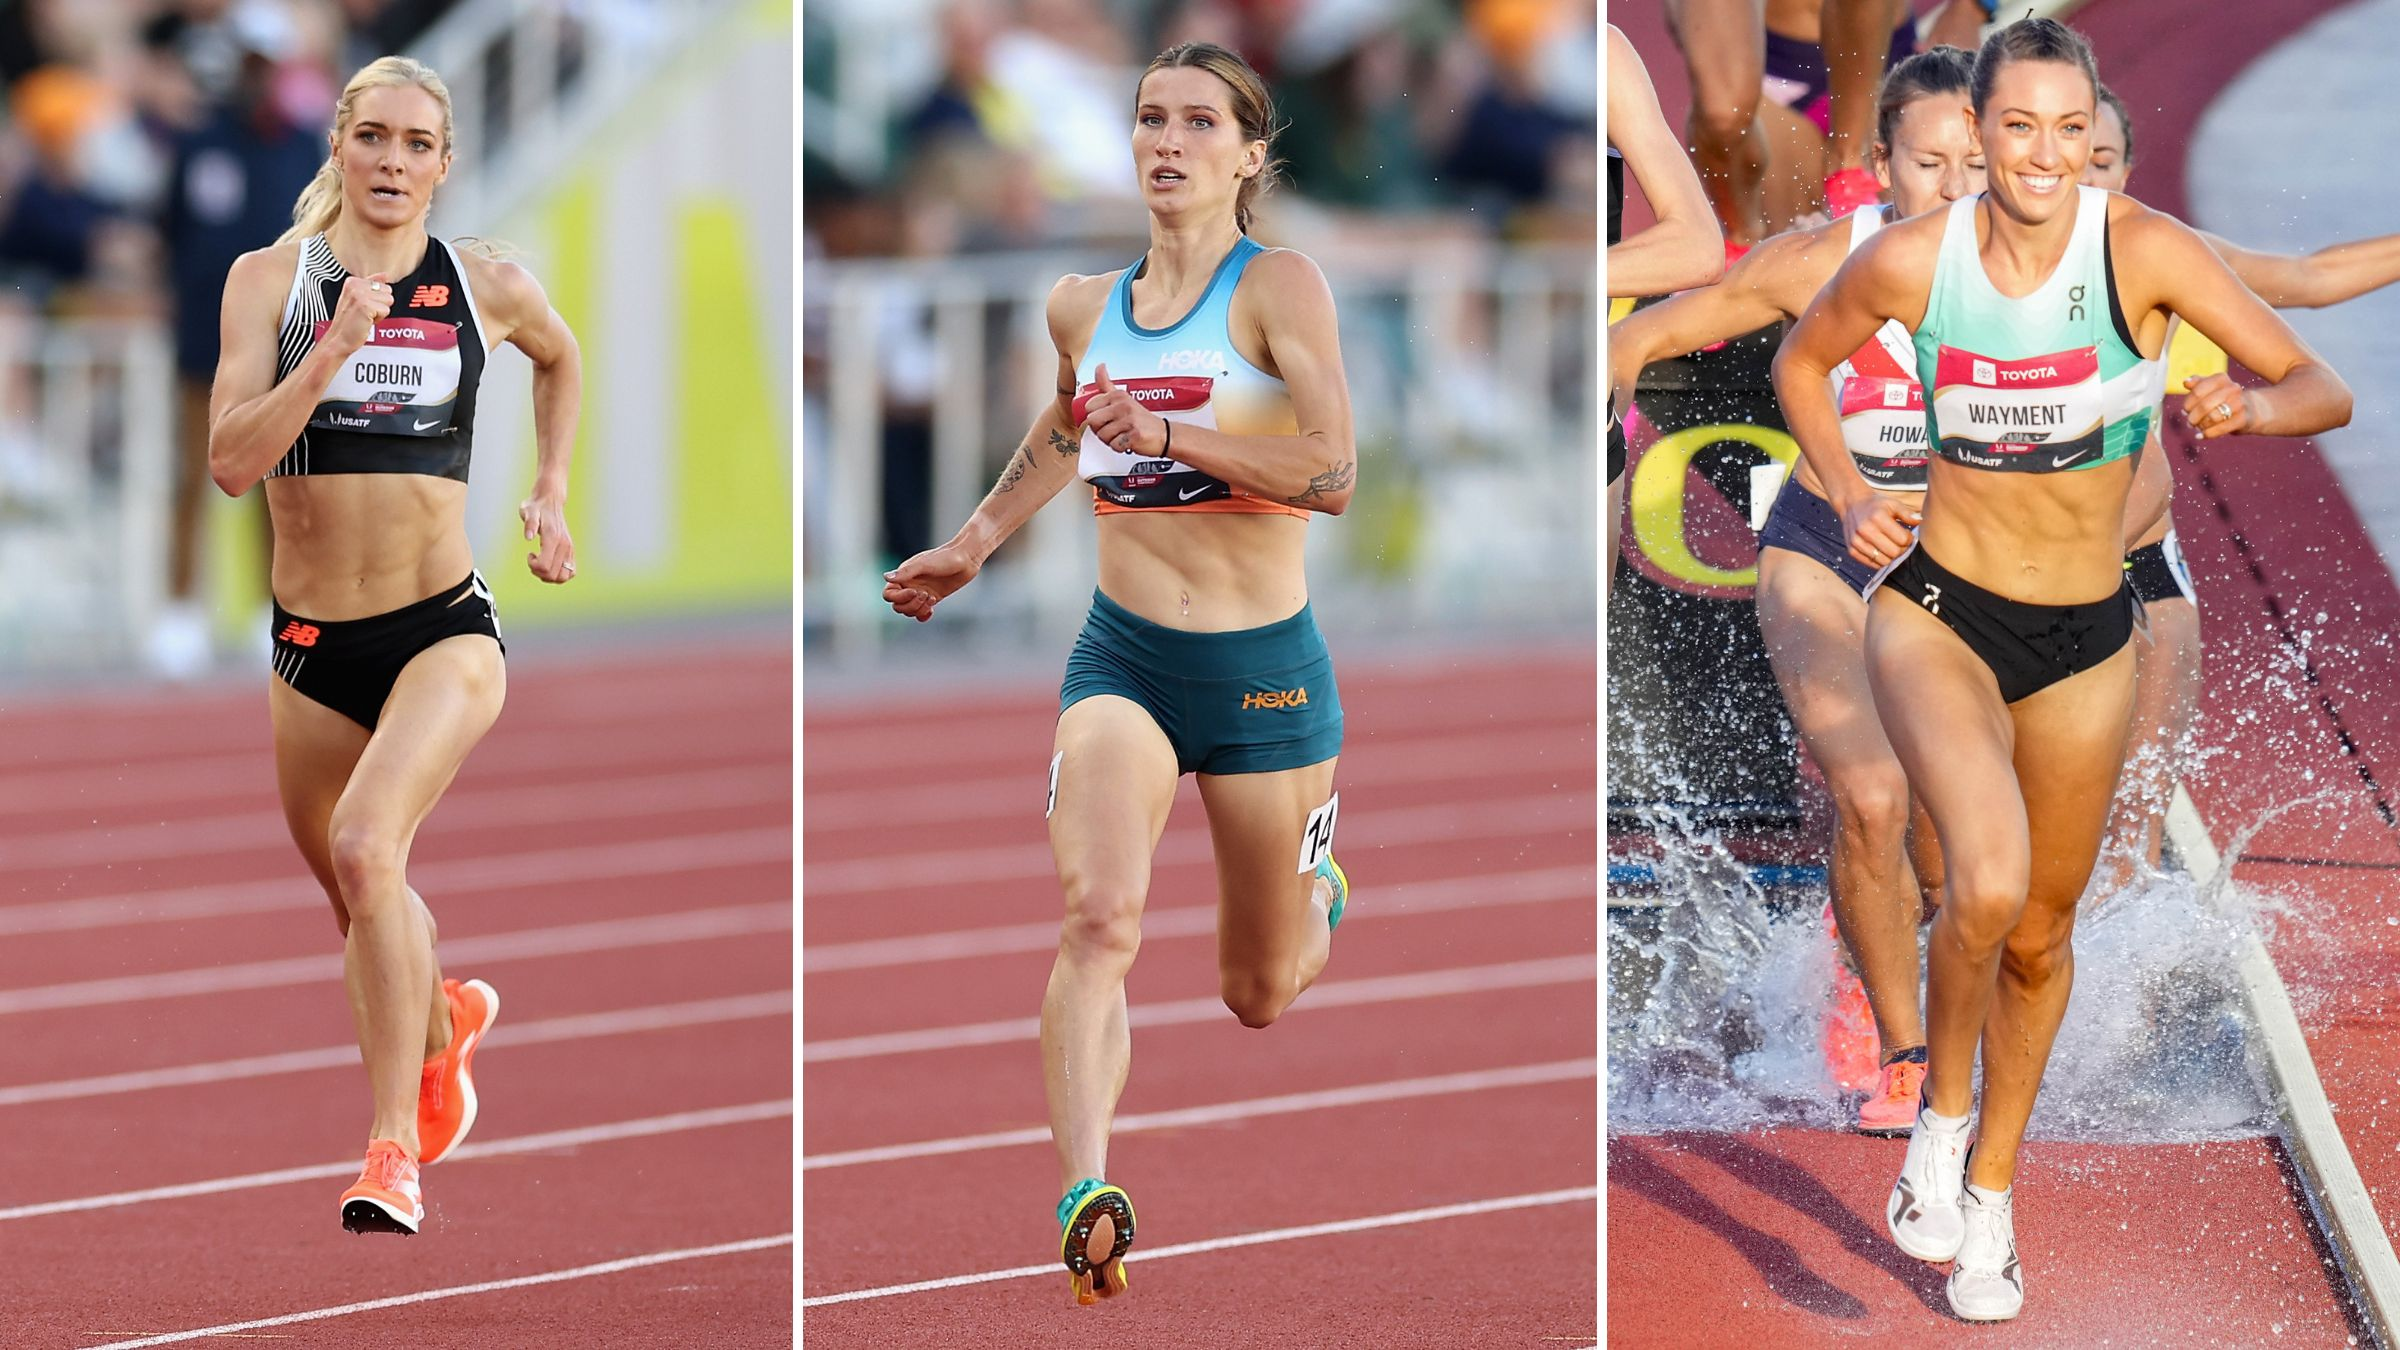runner: (1774, 18, 2357, 1310), (870, 40, 1363, 1320), (208, 54, 584, 1263)
